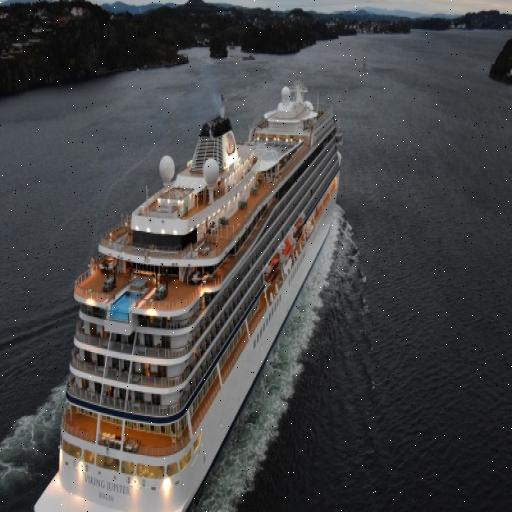cruises: (36, 51, 352, 512)
